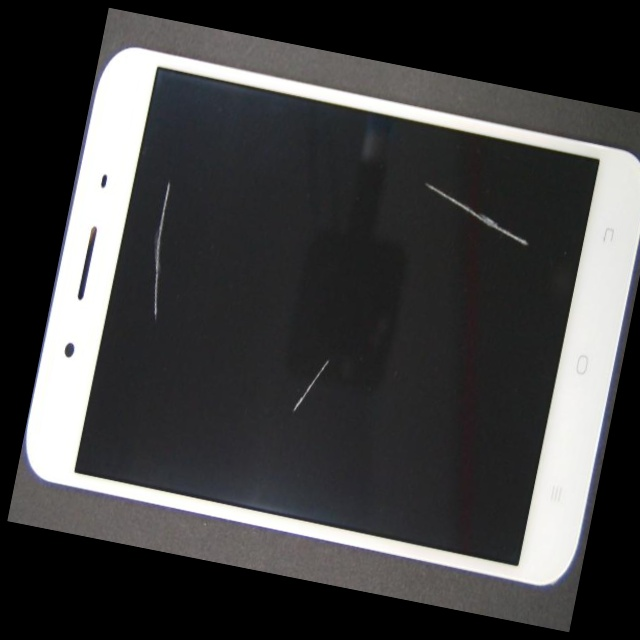scratch: (161, 152, 479, 556), (86, 15, 240, 332), (368, 169, 640, 315)
